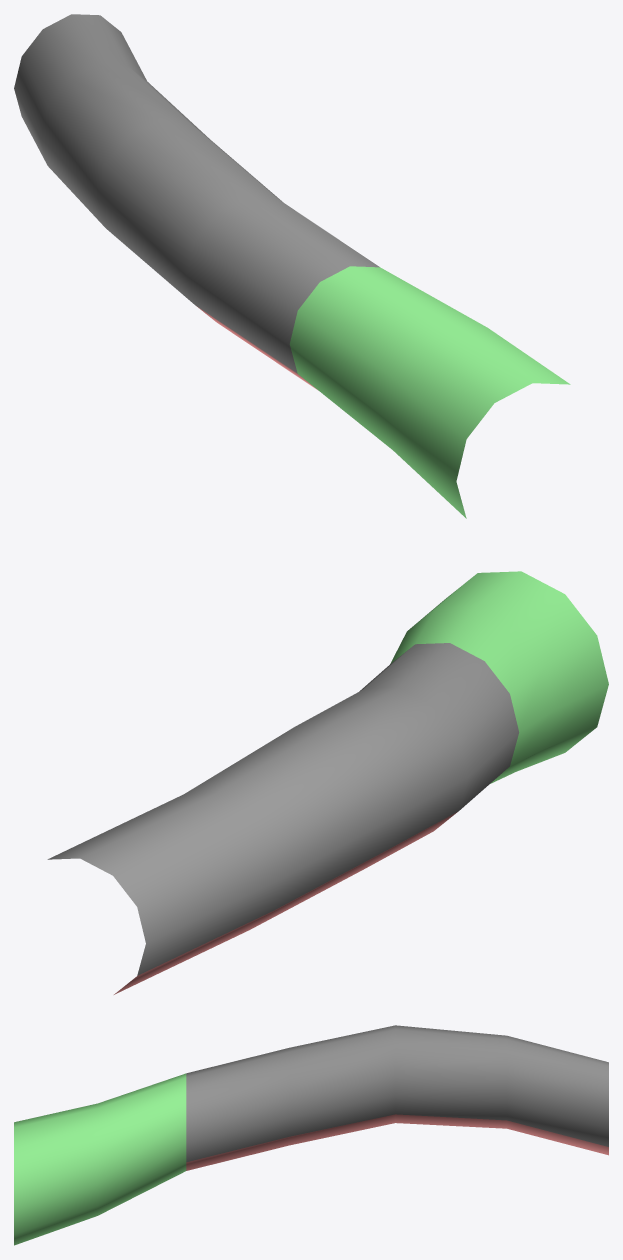
3 views of the same model, one above another, from view 1: azimuth 30°, elevation 25°; view 2: azimuth 150°, elevation 25°; view 3: azimuth 270°, elevation 25° (orthographic). The views are drawn at different scales.
Visible parts, largest first — view 1: root_05_01; view 2: root_05_01; view 3: root_05_01.
Part boxes in pixels (bbox=[...]): root_05_01: bbox=[14, 14, 570, 518]; root_05_01: bbox=[47, 571, 608, 994]; root_05_01: bbox=[14, 1025, 608, 1245].
Bounding box in the file's own units: 15.39 × 15.23 × 46.98.
